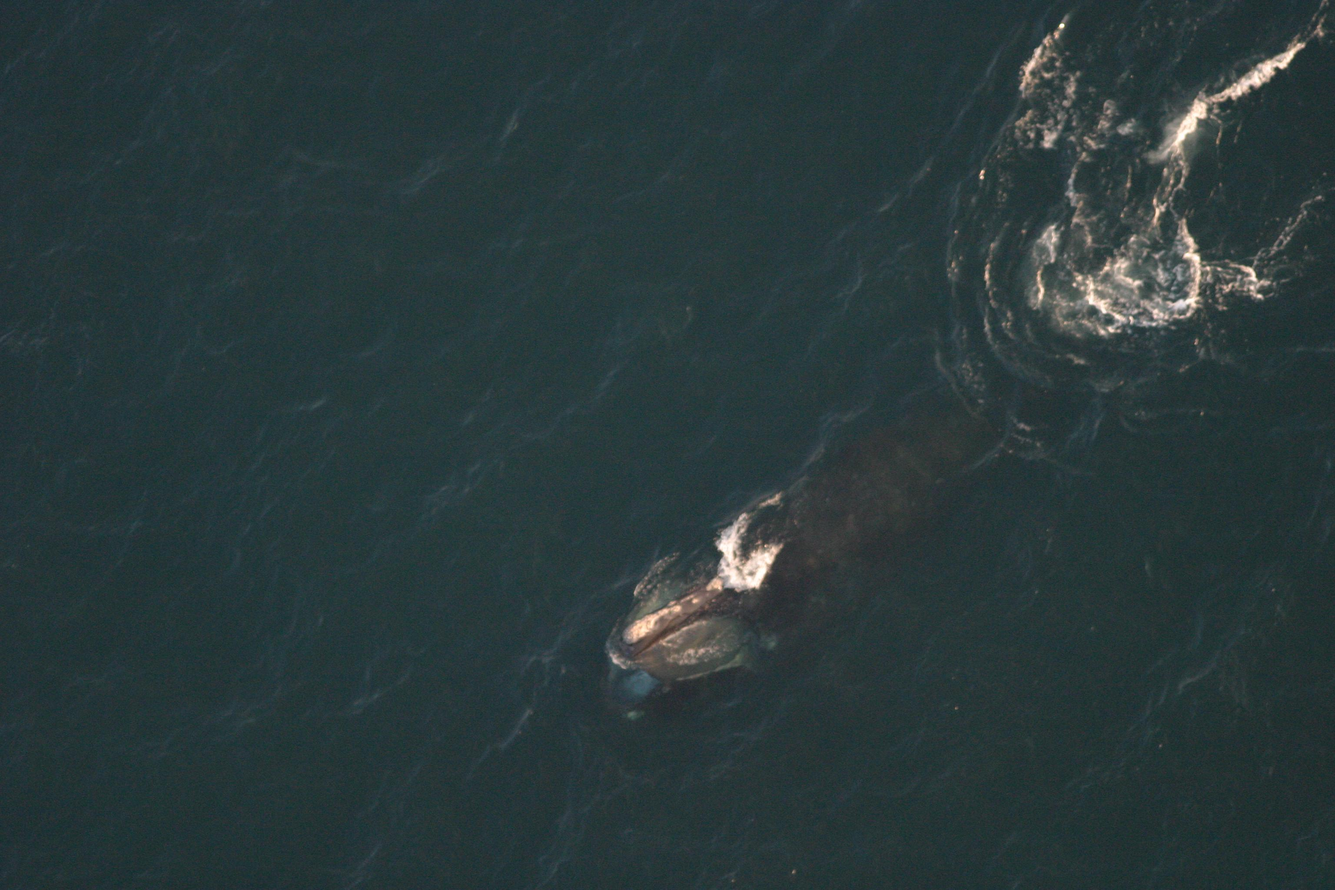whale: (579, 315, 1101, 730)
